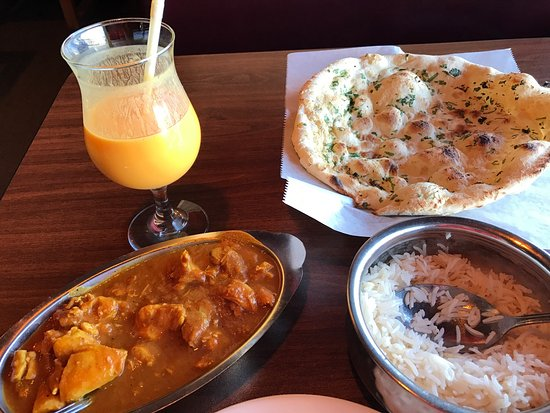plain rice: (366, 252, 550, 404)
